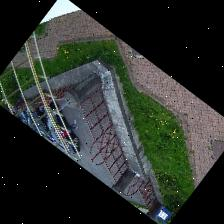person: (67, 120, 77, 129)
